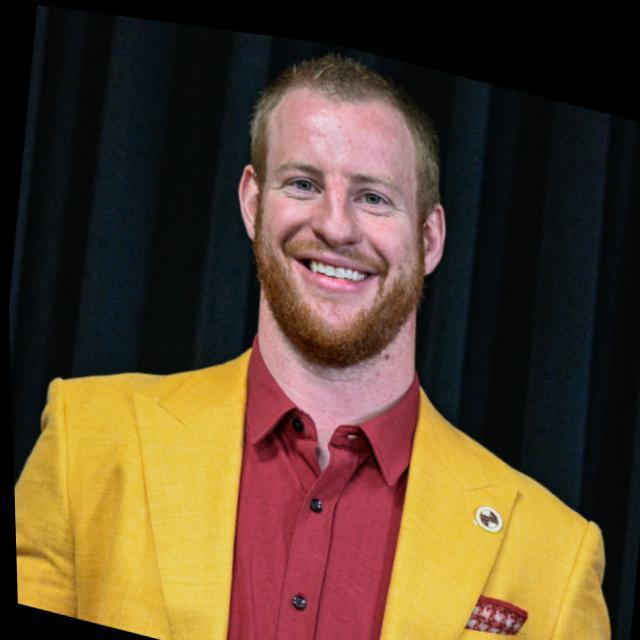Nonhelmet: (222, 39, 458, 368)
